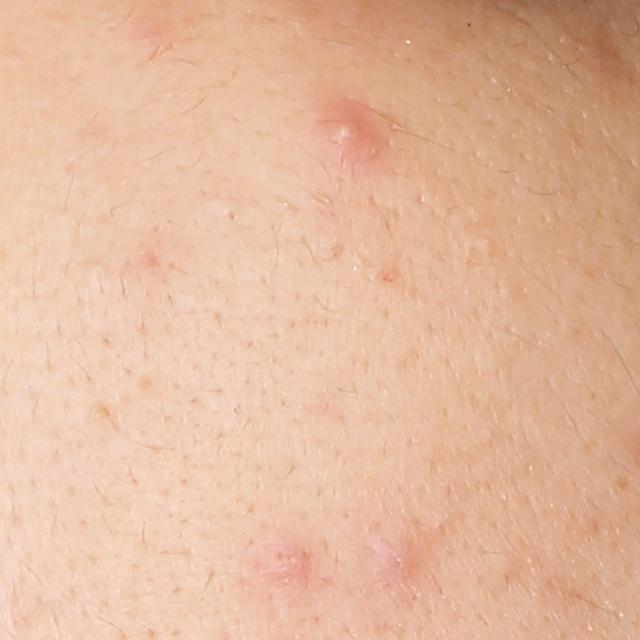comedo: (225, 208, 240, 224)
papule: (235, 530, 299, 590), (371, 536, 425, 583), (320, 107, 371, 153)
